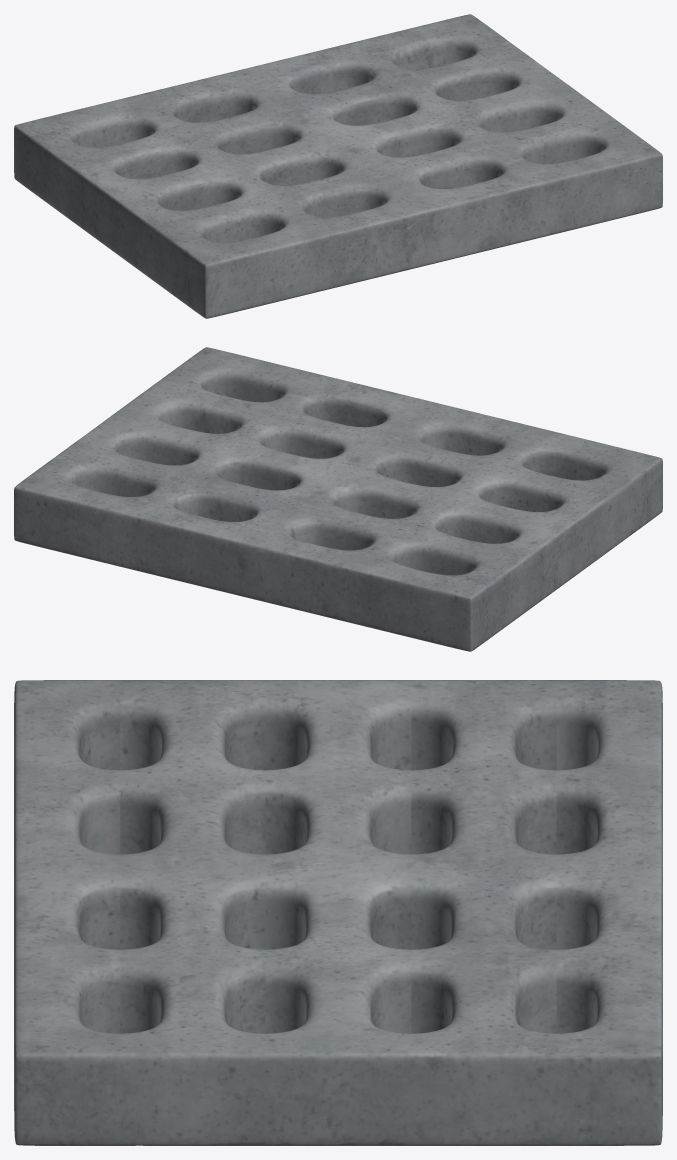
The model's file is Plyta YOMB.glb.
The picture shows the model from 3 angles, top to bottom: view 1: azimuth 30°, elevation 25°; view 2: azimuth 150°, elevation 25°; view 3: azimuth 270°, elevation 25°; orthographic projection. The views are drawn at different scales.
Parts seen in each view (by area): view 1: Plyta YOMB; view 2: Plyta YOMB; view 3: Plyta YOMB.
Part boxes in pixels (x1=…): Plyta YOMB: x1=14, y1=14, x2=662, y2=318; Plyta YOMB: x1=14, y1=347, x2=662, y2=651; Plyta YOMB: x1=14, y1=680, x2=662, y2=1145.
Bounding box in the file's own units: 1.03 × 0.1195 × 0.7505.
1 material, 1 textured.
